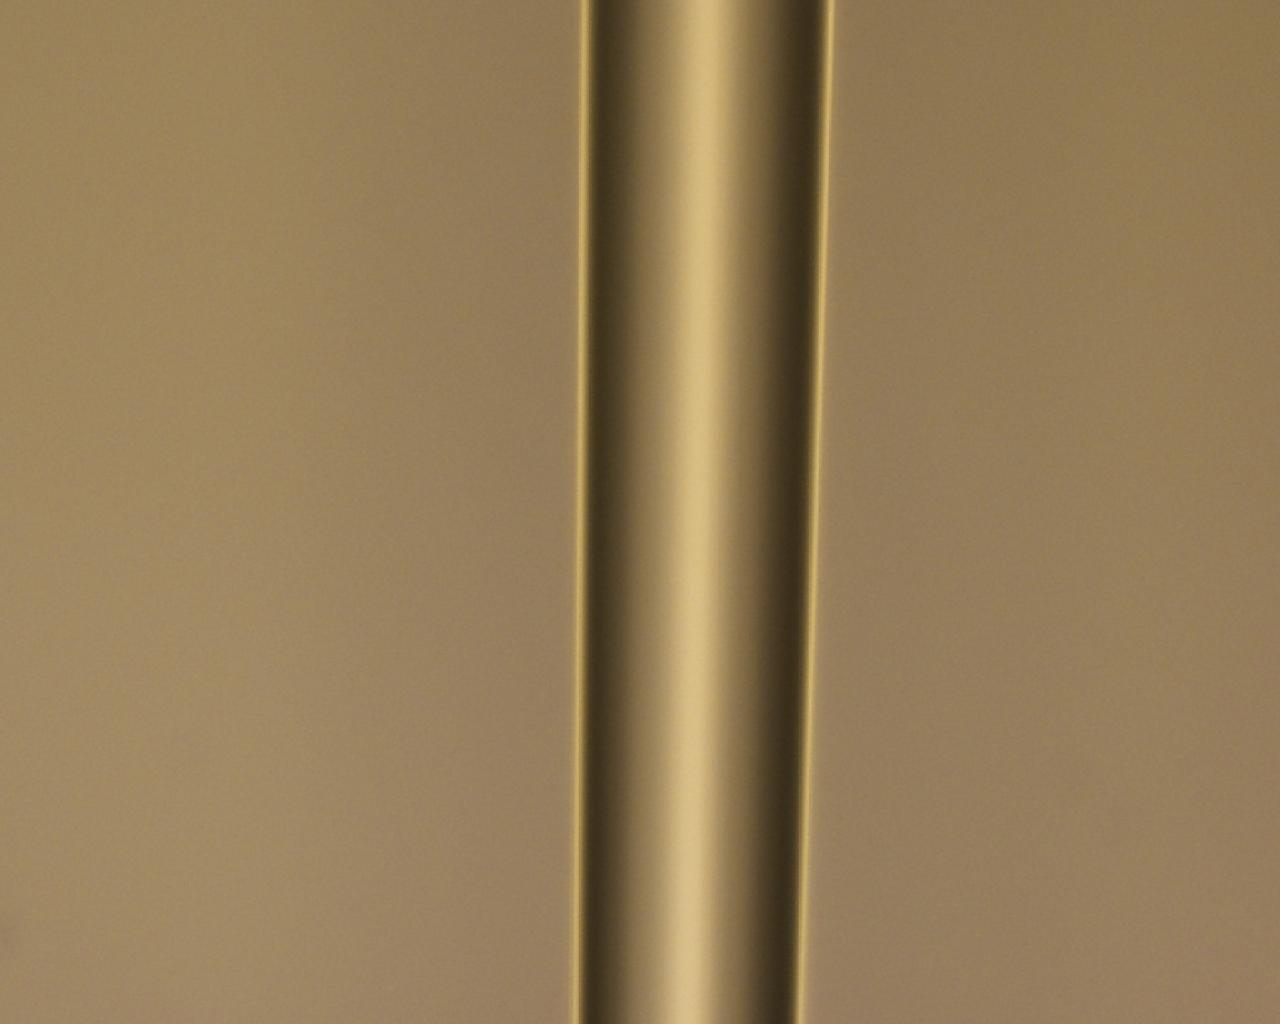fiber: (153, 460, 206, 1024), (1259, 0, 1274, 460)
